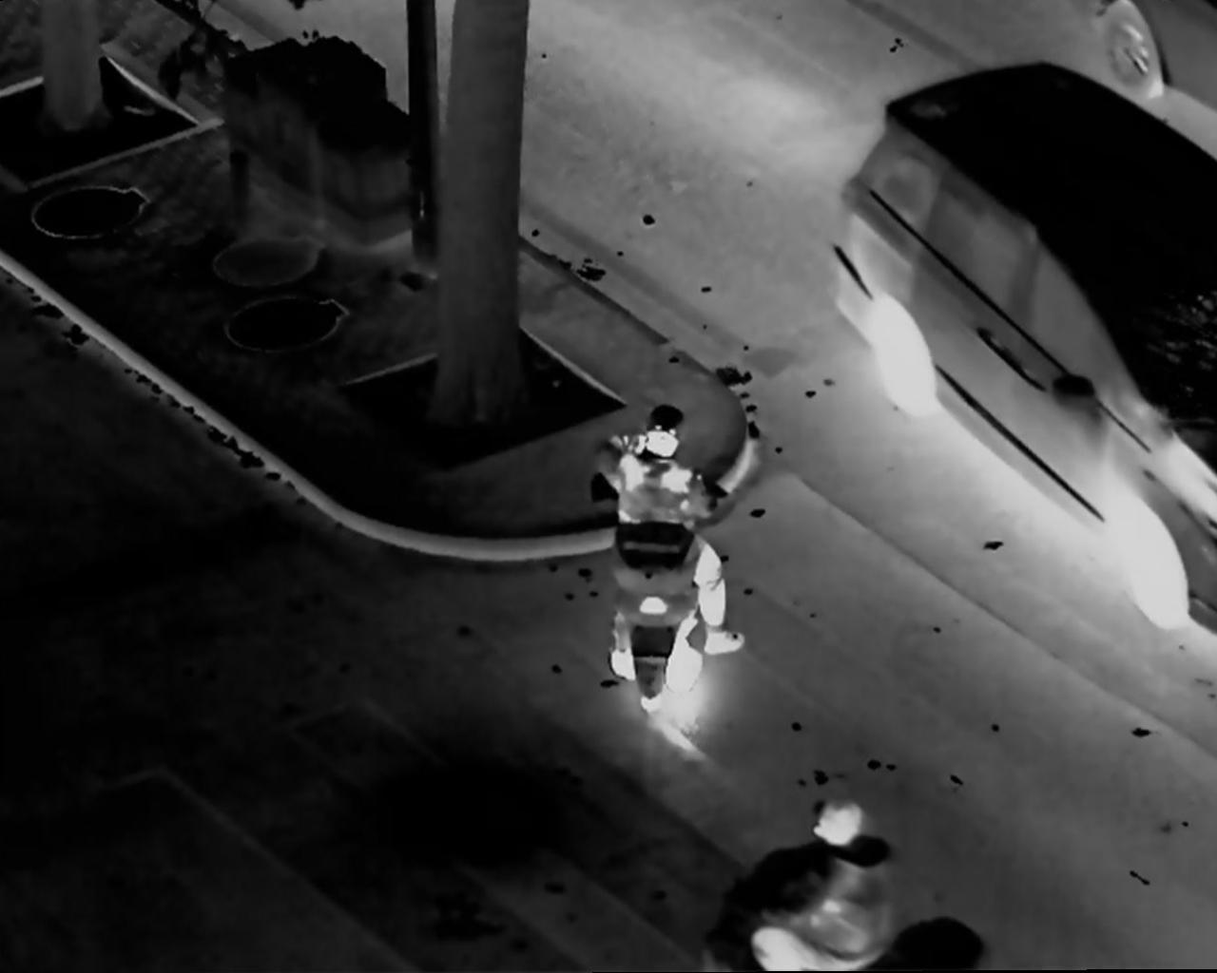person: (595, 397, 753, 702), (750, 788, 899, 973)
